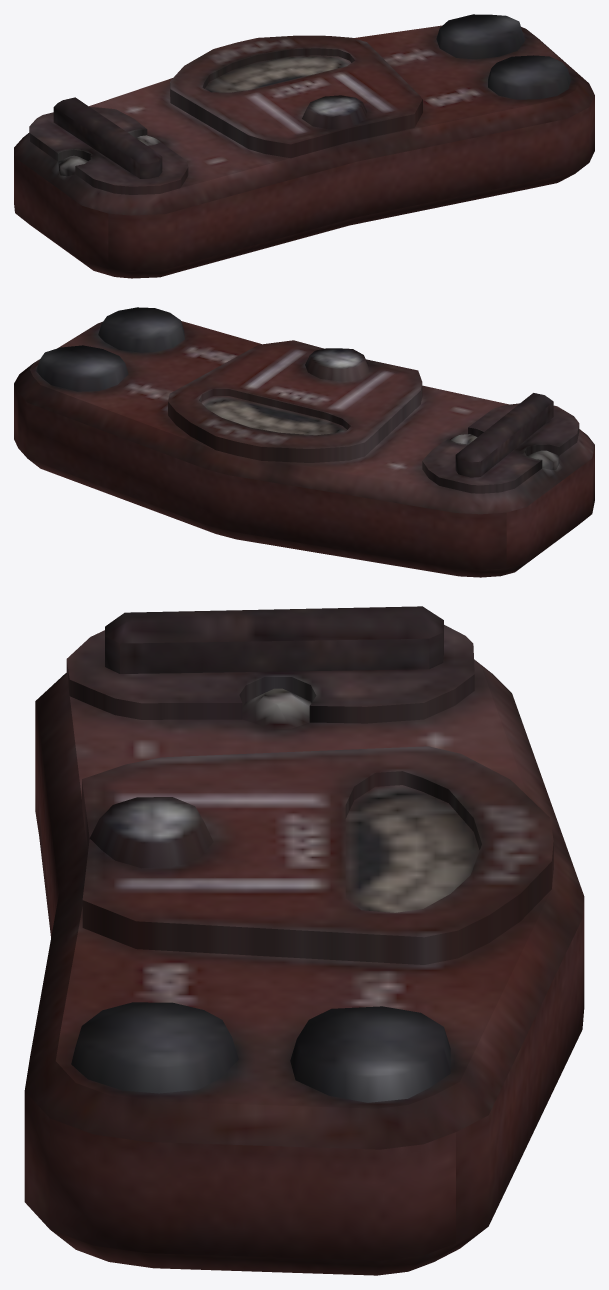
Rendered from dosimeter_1.obj.
The picture shows the model from 3 angles, top to bottom: view 1: azimuth 30°, elevation 25°; view 2: azimuth 150°, elevation 25°; view 3: azimuth 270°, elevation 25°; orthographic projection. The views are drawn at different scales.
Visible parts, largest first — view 1: dosimeter_1; view 2: dosimeter_1; view 3: dosimeter_1.
Part boxes in pixels (x1,y1,x2,y2): dosimeter_1: (14, 14, 594, 278); dosimeter_1: (14, 307, 594, 577); dosimeter_1: (24, 606, 584, 1275).
Bounding box in the file's own units: 0.3097 × 0.0656 × 0.1459.
